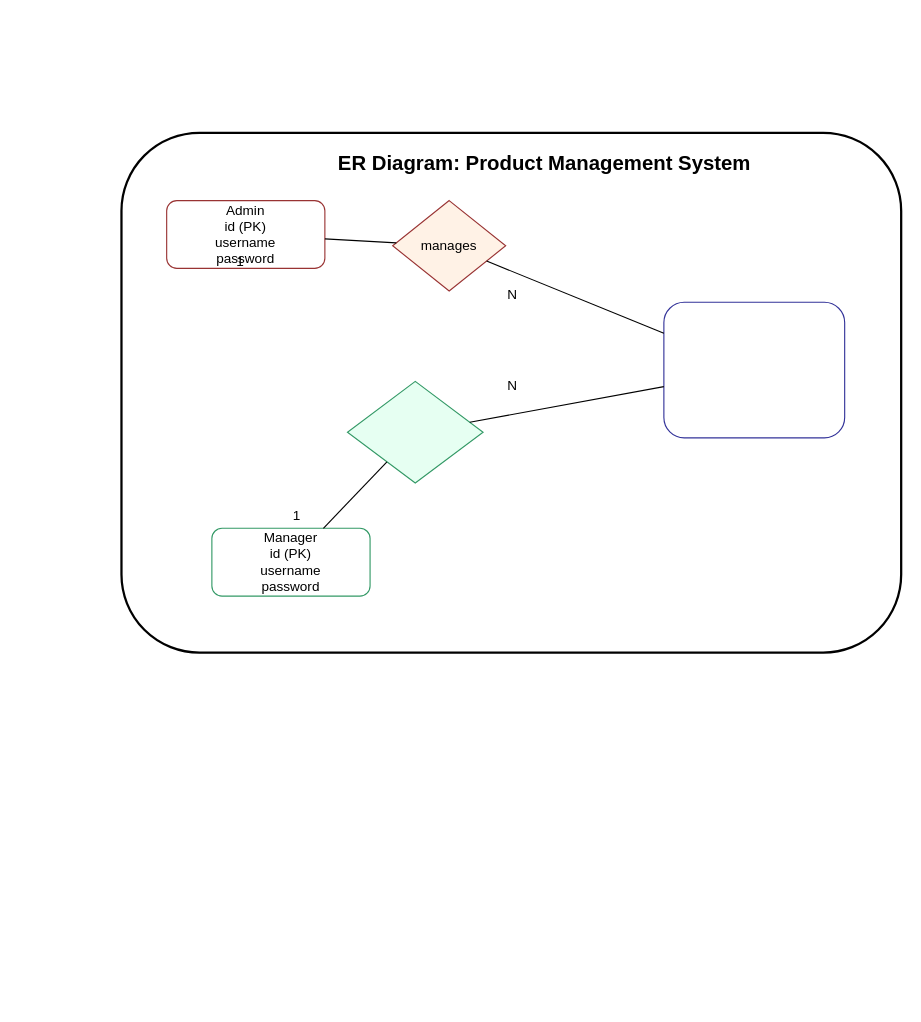
This 921x1022 diagram has some shape labels left out. The shapes that lost their labels are listed below. From the top down, each one's centre as x and y in pixels, then its label:
At point 754,369: "Product id (PK) name price quantity".
At point 414,431: "views".
